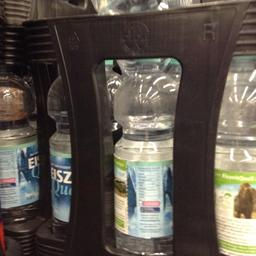water: (113, 60, 170, 254)
